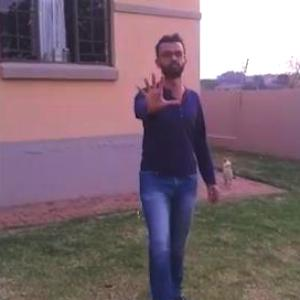follow_hand: (133, 66, 182, 118)
